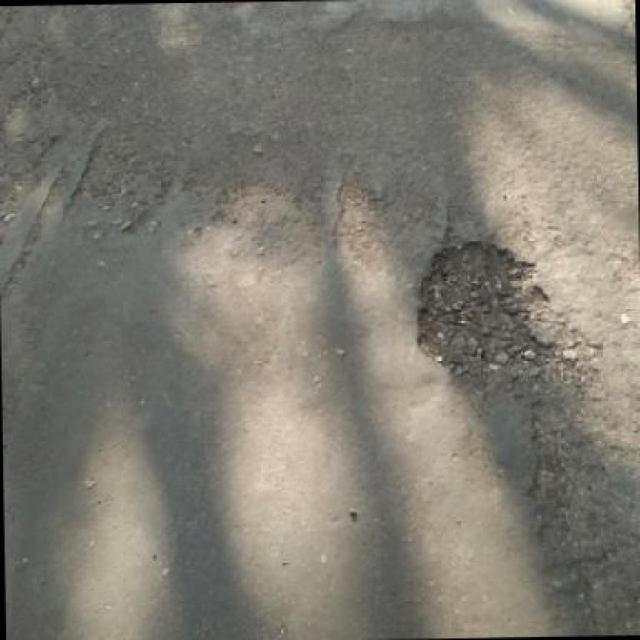pothole1: (404, 232, 570, 386)
